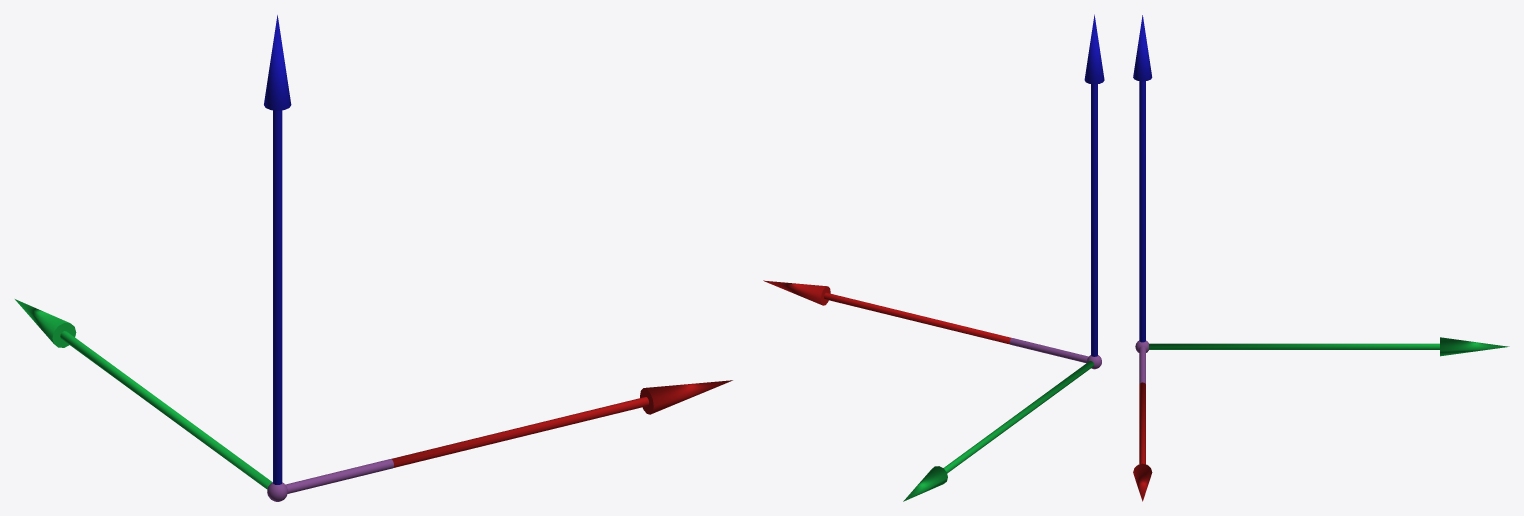
3 views of the same model, side by side, from view 1: azimuth 30°, elevation 25°; view 2: azimuth 150°, elevation 25°; view 3: azimuth 270°, elevation 25° (orthographic). The views are drawn at different scales.
Parts seen in each view (by area): view 1: axis, stick; view 2: axis, stick; view 3: axis.
Part boxes in pixels (bbox=[...]): axis: bbox=[15, 15, 732, 489]; stick: bbox=[285, 459, 393, 493]; axis: bbox=[763, 14, 1104, 501]; stick: bbox=[1009, 338, 1088, 363]; axis: bbox=[1133, 15, 1509, 501].
Bounding box in the file's own units: 4.11 × 4.11 × 4.11.
